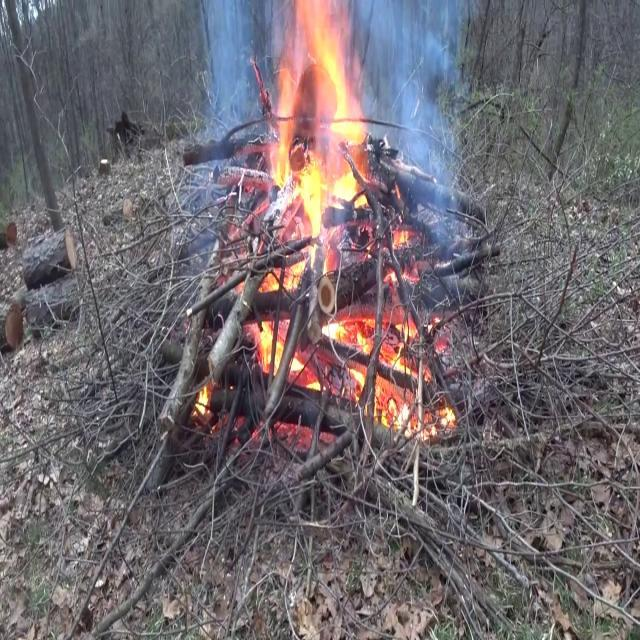Fire: (247, 0, 436, 420), (260, 1, 384, 259)
Smoke: (364, 2, 474, 258)
